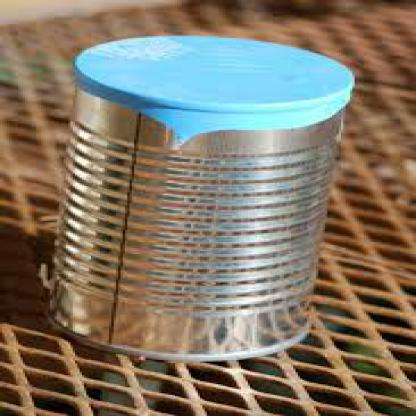METAL: (41, 33, 352, 360)
